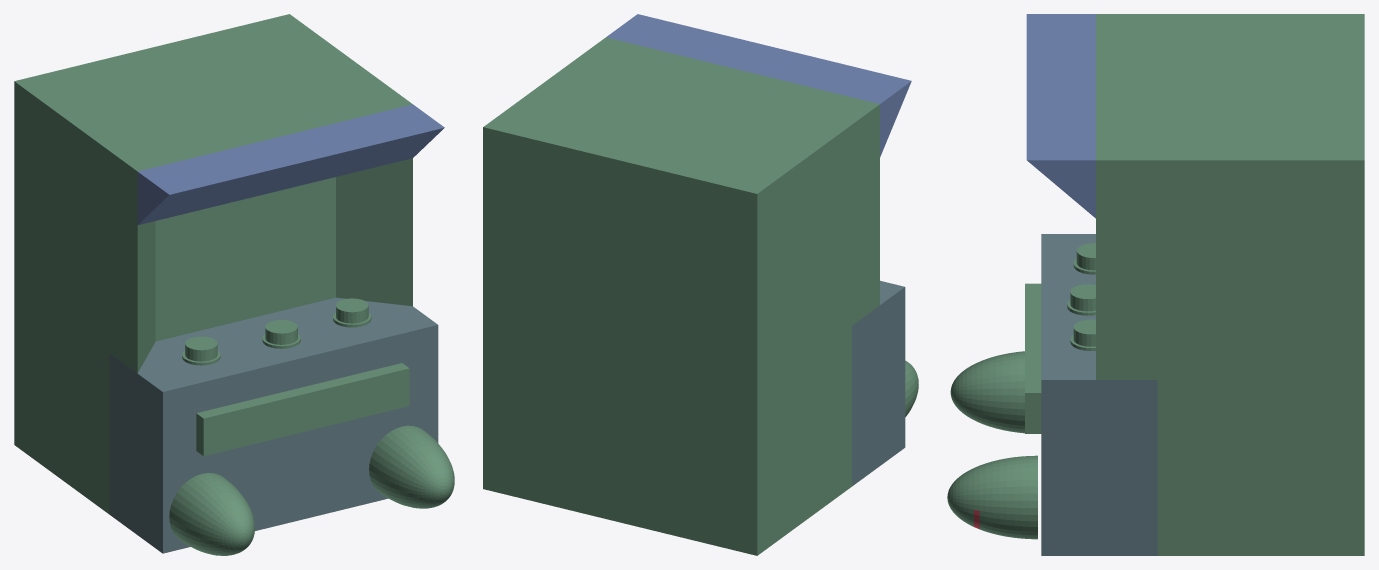
Rendered from TRMNT.glb.
3 views of the same model, side by side, from view 1: azimuth 30°, elevation 25°; view 2: azimuth 150°, elevation 25°; view 3: azimuth 270°, elevation 25° (orthographic). The views are drawn at different scales.
Visible parts, largest first — view 1: Mesh_Mesh_head_geo.001_lambert2SG.001; view 2: Mesh_Mesh_head_geo.001_lambert2SG.001; view 3: Mesh_Mesh_head_geo.001_lambert2SG.001.
Part boxes in pixels (left/top/right/bottom): Mesh_Mesh_head_geo.001_lambert2SG.001: left=14, top=14, right=454, bottom=555; Mesh_Mesh_head_geo.001_lambert2SG.001: left=483, top=14, right=918, bottom=555; Mesh_Mesh_head_geo.001_lambert2SG.001: left=947, top=14, right=1364, bottom=555.
Size of the model in its own units: 107 by 135 by 129.
